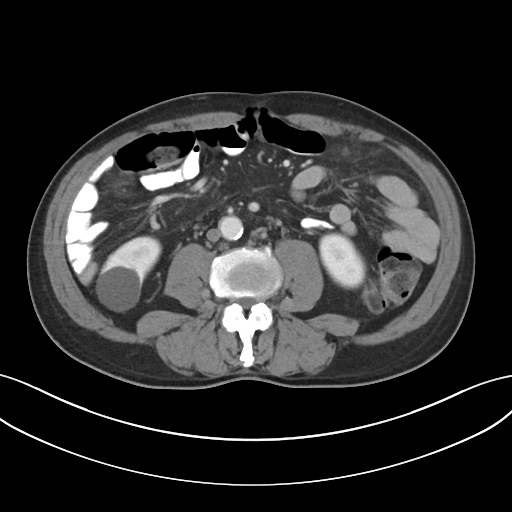Lesion: (95, 264, 140, 312)
